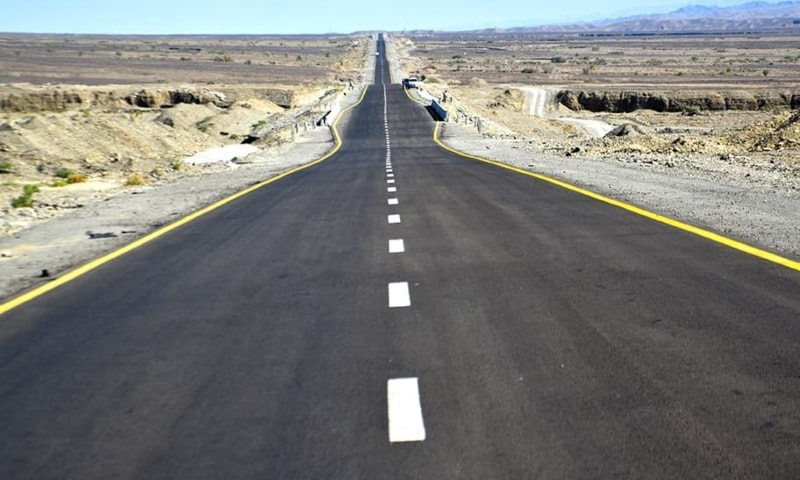straightRoad: (221, 146, 577, 467)
